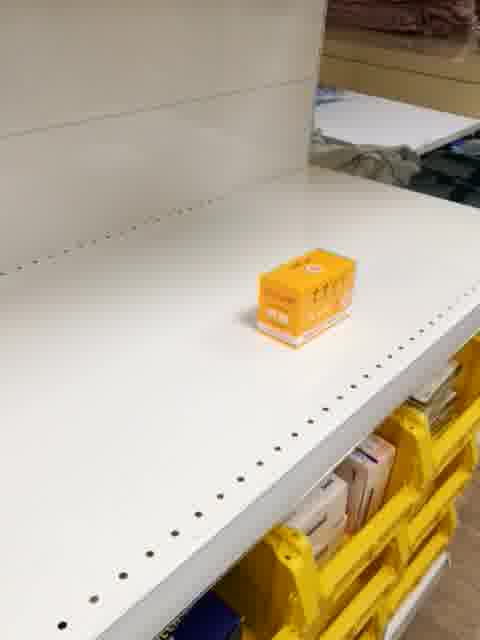jasminetea: (253, 248, 359, 352)
